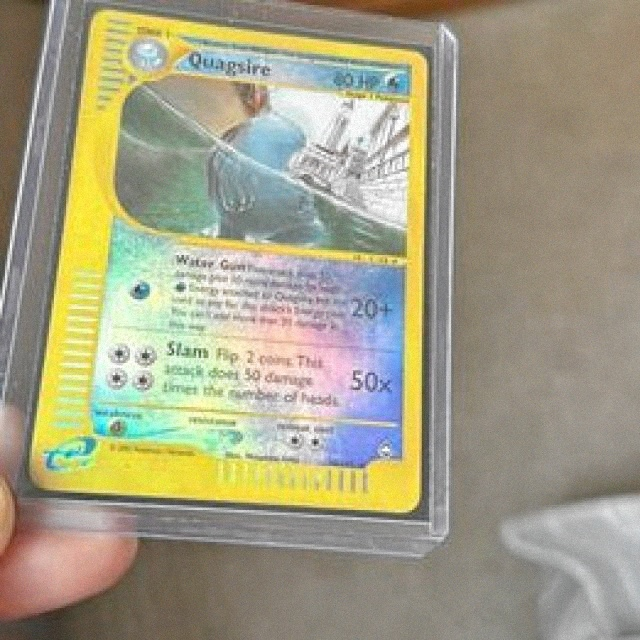card: (25, 7, 431, 515)
